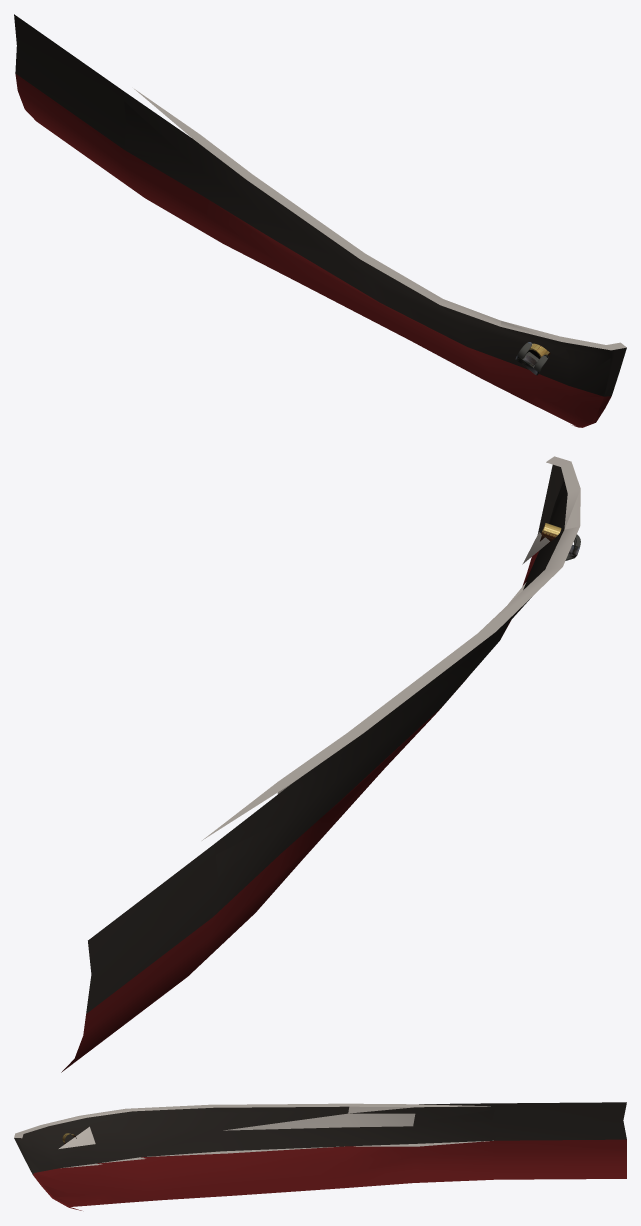
File: container_ship_back_bow.glb
3 renders of one model, top to bottom at view 1: azimuth 30°, elevation 25°; view 2: azimuth 150°, elevation 25°; view 3: azimuth 270°, elevation 25°, orthographic. The views are drawn at different scales.
Parts seen in each view (by area): view 1: ellipse_21_acmat_37_002_0.002, ellipse_005_acmat_50_0.003, ellipse_005_acmat_50_0.002, ellipse_004_acmat_24_002_0.002, ellipse_004_acmat_24_002_0.008; view 2: ellipse_005_acmat_50_0.003, ellipse_005_acmat_50_0.002, ellipse_21_acmat_37_002_0.002, ellipse_004_acmat_24_002_0.002, ellipse_004_acmat_24_002_0.008; view 3: ellipse_21_acmat_37_002_0.002, ellipse_005_acmat_50_0.003, ellipse_005_acmat_50_0.002, ellipse_004_acmat_24_002_0.005, ellipse_004_acmat_24_002_0.002, ellipse_004_acmat_24_002_0.013, ellipse_004_acmat_24_002_0.006, ellipse_004_acmat_24_002_0.008.
Boxes of the visible parts, left/top/right/bottom form: ellipse_21_acmat_37_002_0.002: left=15, top=73, right=603, bottom=427; ellipse_005_acmat_50_0.003: left=124, top=101, right=619, bottom=395; ellipse_005_acmat_50_0.002: left=14, top=14, right=626, bottom=396; ellipse_004_acmat_24_002_0.002: left=193, top=134, right=626, bottom=350; ellipse_004_acmat_24_002_0.008: left=134, top=89, right=561, bottom=341; ellipse_005_acmat_50_0.003: left=213, top=480, right=567, bottom=916; ellipse_005_acmat_50_0.002: left=86, top=464, right=564, bottom=1013; ellipse_21_acmat_37_002_0.002: left=61, top=567, right=532, bottom=1072; ellipse_004_acmat_24_002_0.002: left=278, top=456, right=580, bottom=782; ellipse_004_acmat_24_002_0.008: left=202, top=489, right=580, bottom=840; ellipse_21_acmat_37_002_0.002: left=34, top=1139, right=626, bottom=1206; ellipse_005_acmat_50_0.003: left=18, top=1106, right=495, bottom=1171; ellipse_005_acmat_50_0.002: left=14, top=1102, right=626, bottom=1174; ellipse_004_acmat_24_002_0.005: left=223, top=1113, right=415, bottom=1130; ellipse_004_acmat_24_002_0.002: left=15, top=1103, right=415, bottom=1138; ellipse_004_acmat_24_002_0.013: left=97, top=1146, right=344, bottom=1163; ellipse_004_acmat_24_002_0.006: left=59, top=1126, right=95, bottom=1148; ellipse_004_acmat_24_002_0.008: left=42, top=1104, right=490, bottom=1126.
Size of the model in its own units: 2.9 by 2.78 by 20.97.
7 materials, 7 textured.
